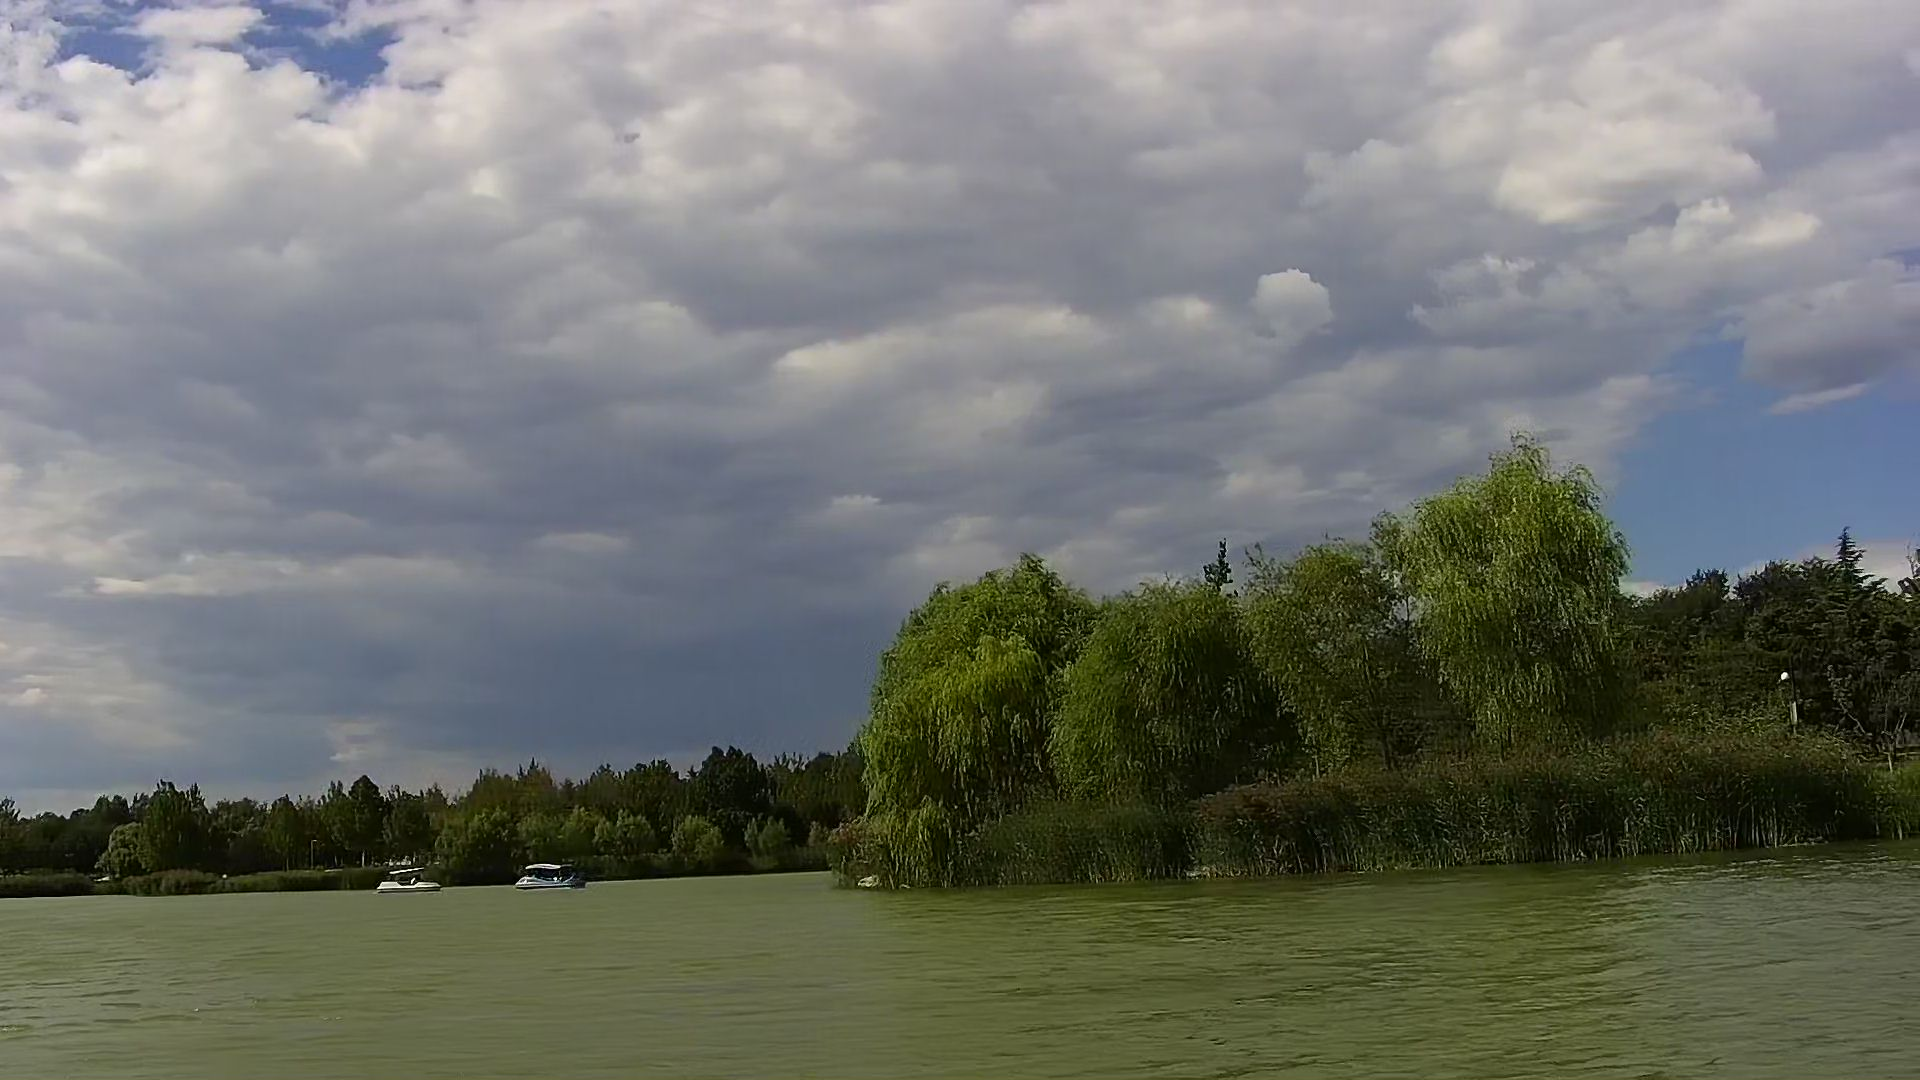boat: (509, 858, 585, 894), (377, 865, 442, 897)
rock: (848, 874, 887, 894)
